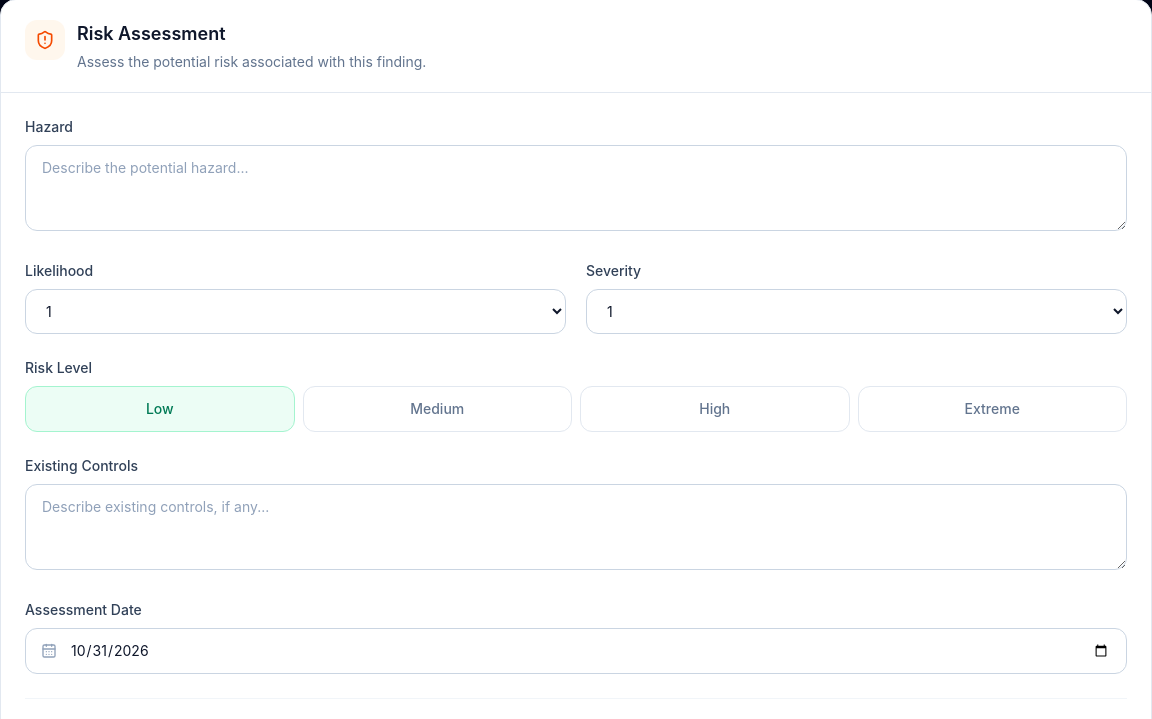
RiskAssessmentForm › shows backend validation errors
The width and height of the screenshot is (1152, 719).
Type "Test hazard" into the text box labelled "Hazard".
click(576, 188); type("Test hazard")  # box [25, 145, 1127, 231]
(page scrolled)
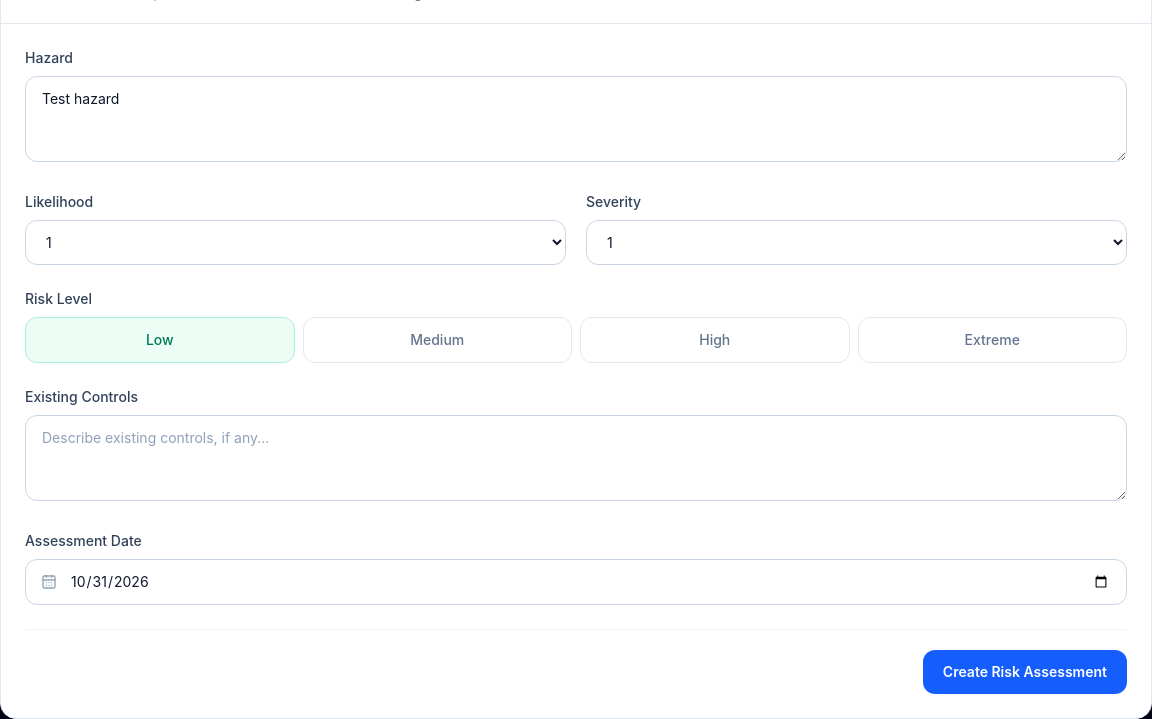
Click the button "Create Risk Assessment".
click(1025, 672)  # box [923, 650, 1127, 694]
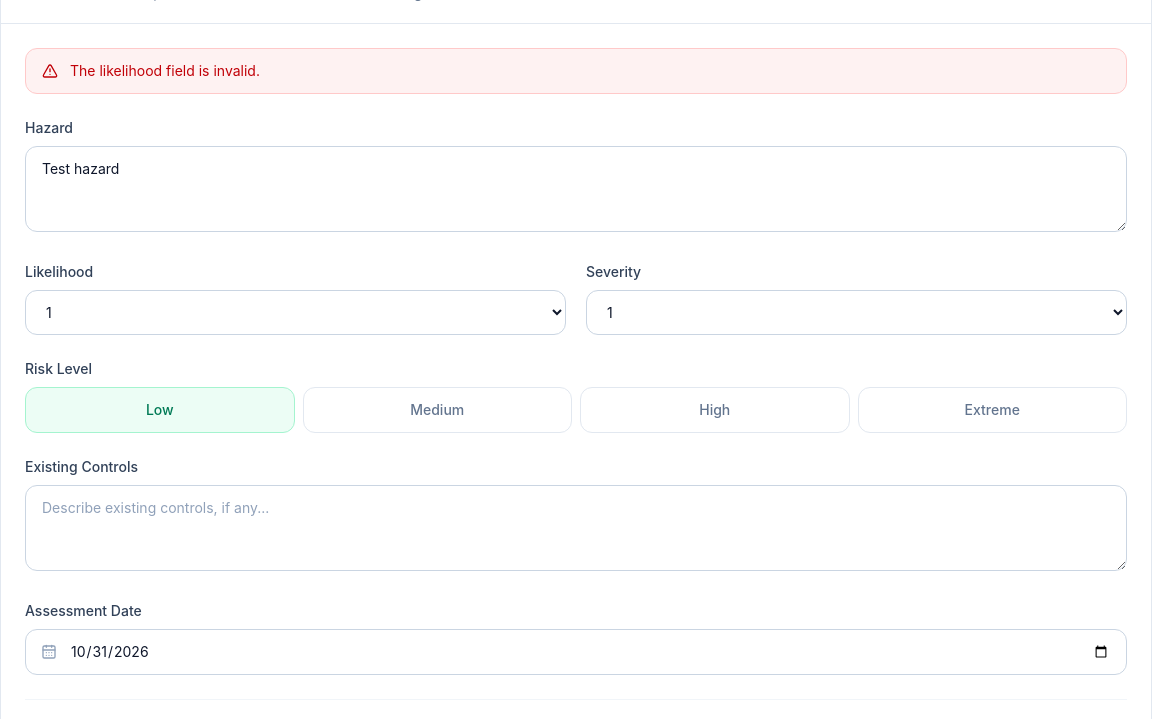
Expected: the message reads "The likelihood field is invalid.", [70, 62, 260, 79]
